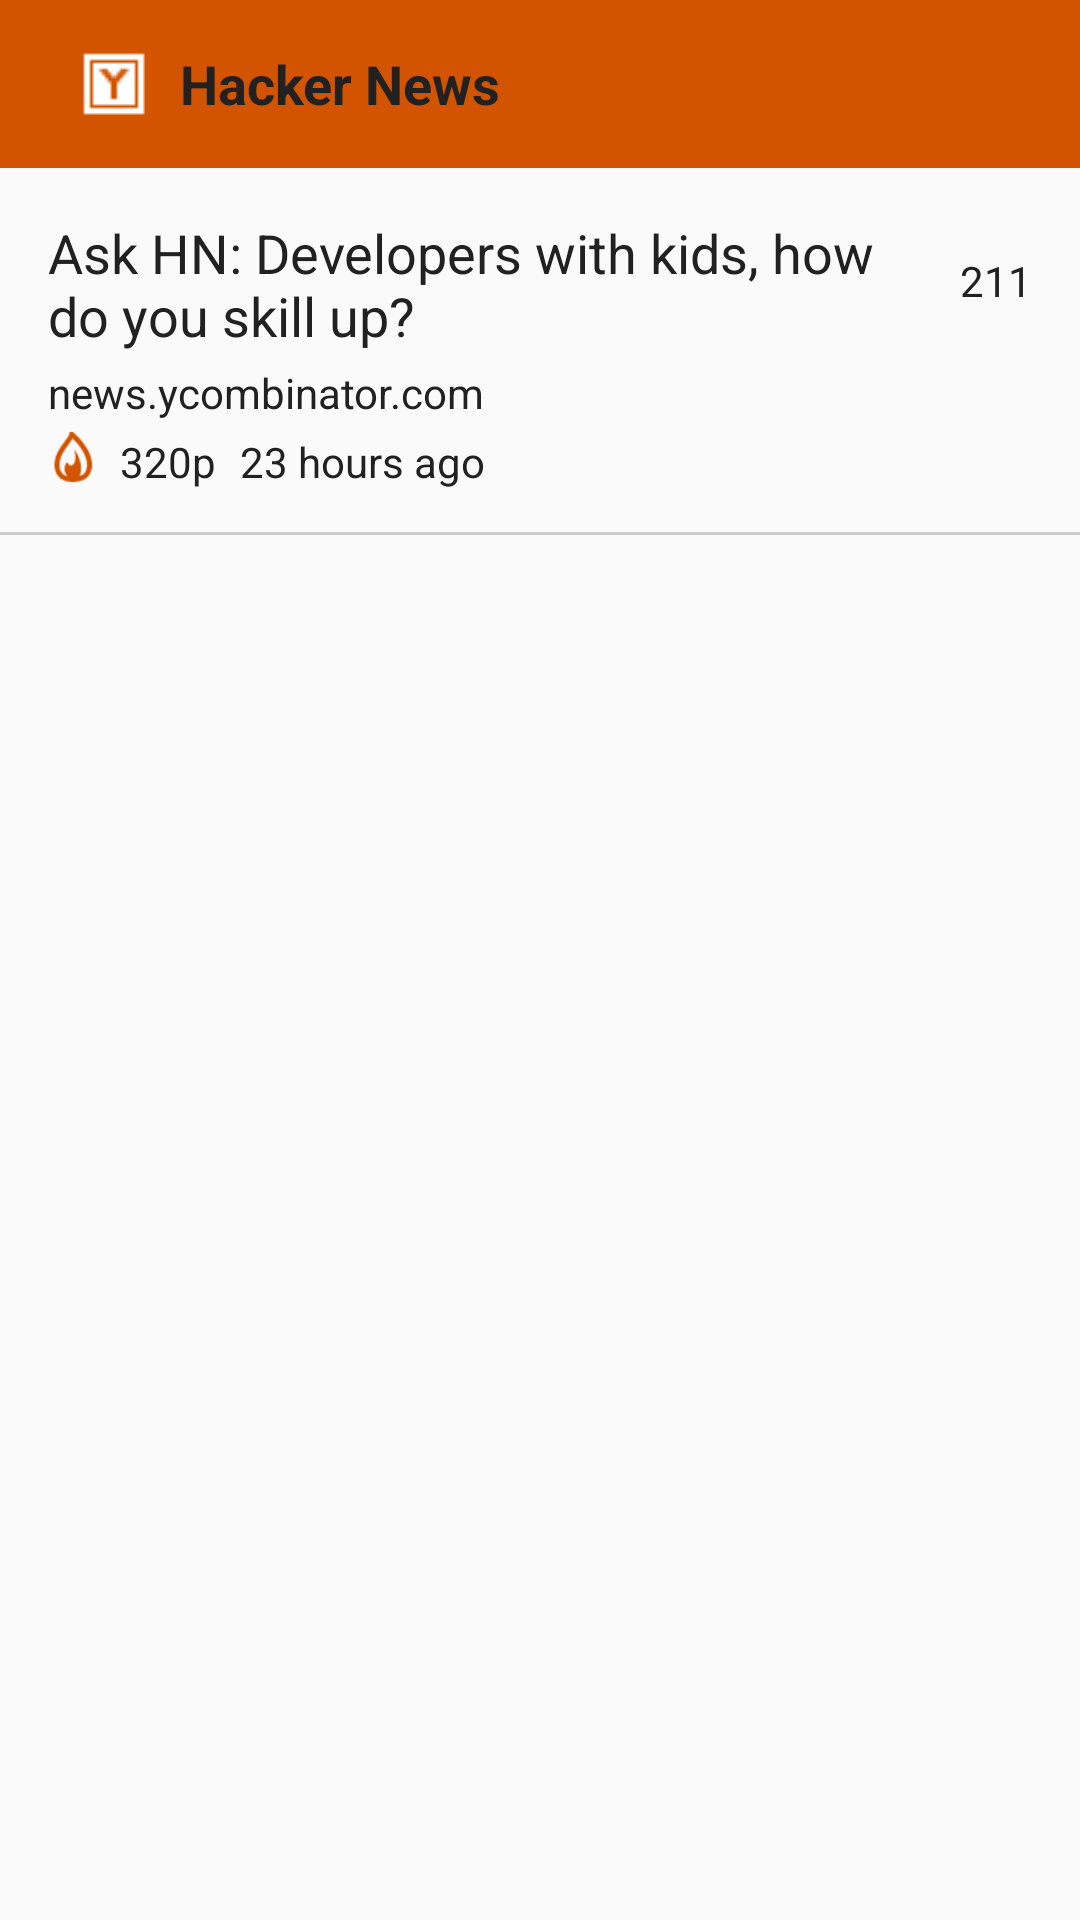

Where icons sit on this 1080×1920 app screen, as (x1=x1, y1=y1, x2=x2, y2=y2):
fire: (x1=54, y1=431, x2=93, y2=483)
